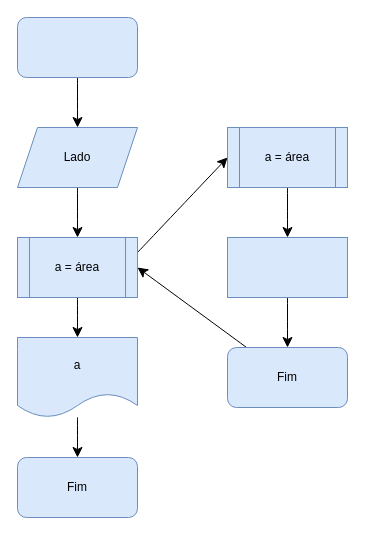
Image size: 365x535. Some labels were removed from this diagram. The centre of each missing label's shape, as x and y in pixels:
"a = lado * lado" goes at [287,267].
"Início" goes at [77,47].
